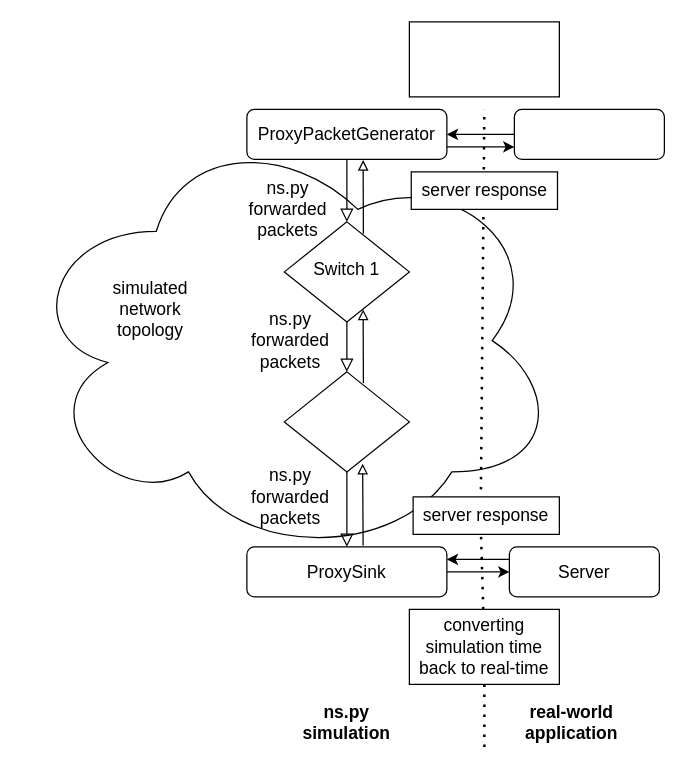
The diagram is 686 pixels wide and 771 high, and some of its shapes have lost their labels. Here are the shapes that lost their labels. From the top down, the box of each, then its label:
(408, 21, 559, 97): converting real-time to simulation time
(513, 108, 664, 159): Client
(283, 371, 409, 472): Switch 2
